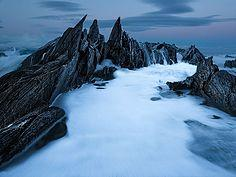mountain: (3, 21, 115, 121), (172, 49, 231, 122)
